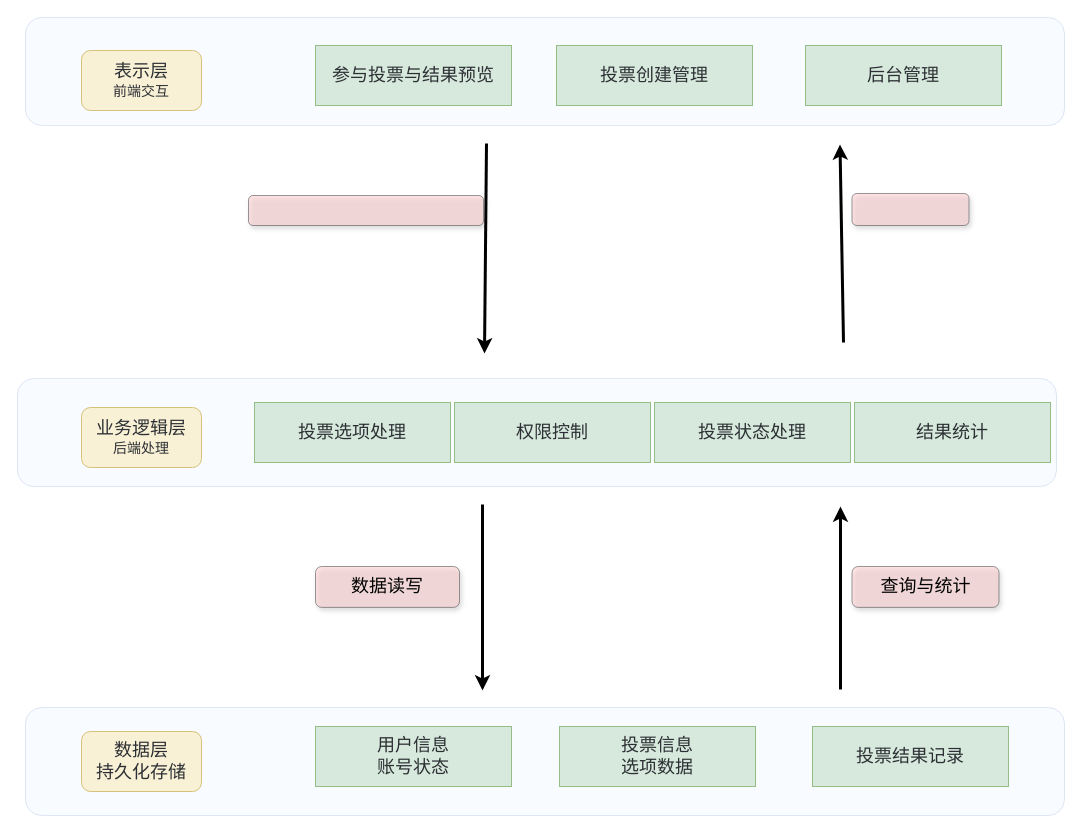
This 1082x833 diagram has some shape labels left out. The centre of each missing label's shape, as x and y in pixels:
"业务反馈" belongs at [911,210].
"操作与业务请求" belongs at [367,211].
